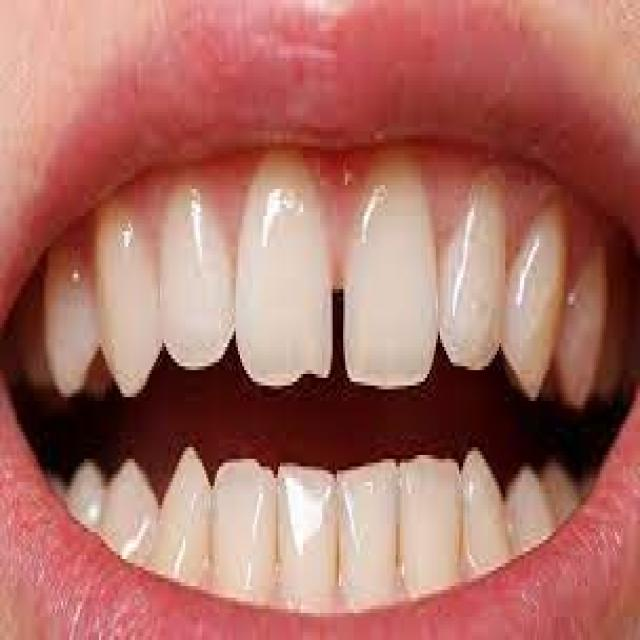tooth: (345, 185, 432, 382), (253, 177, 322, 378), (90, 200, 156, 378), (158, 185, 229, 339), (446, 177, 501, 370), (396, 463, 463, 590), (507, 216, 558, 382), (284, 458, 337, 598), (213, 463, 267, 578), (564, 239, 602, 401), (48, 235, 86, 386), (350, 462, 390, 594), (166, 444, 202, 570), (110, 459, 152, 547), (465, 455, 503, 551), (503, 474, 543, 540), (76, 459, 95, 524)
